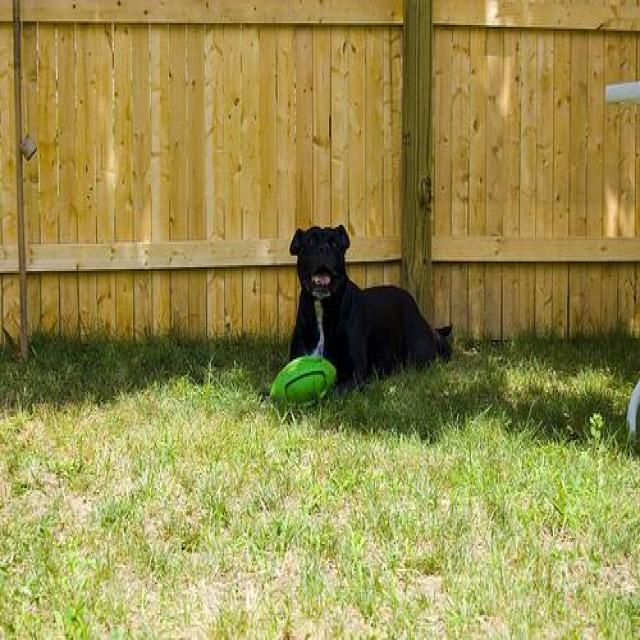staffordshire_bullterrier: (283, 221, 454, 396)
